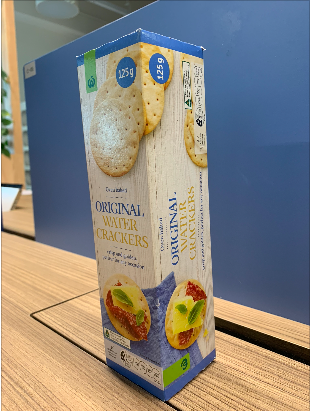Crackers_100-199g: (101, 55, 208, 366)
